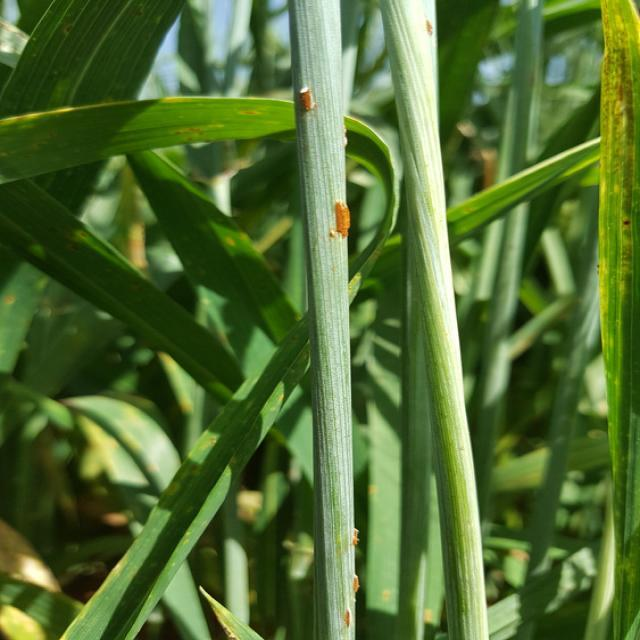wheat-stemrust: (337, 525, 365, 640), (329, 188, 352, 277), (289, 77, 322, 129)
